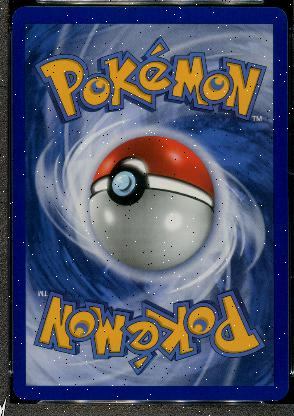Card: (9, 4, 291, 402)
Scratch: (284, 166, 286, 172), (264, 390, 269, 392)
